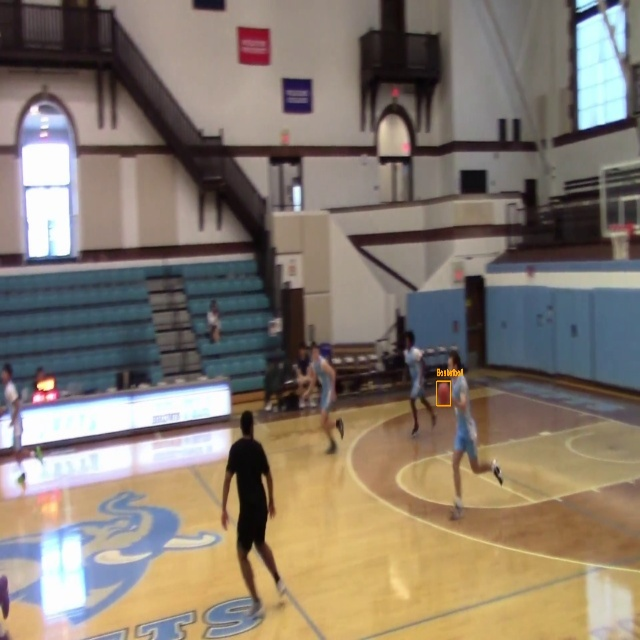Basketball: (437, 381, 451, 406)
